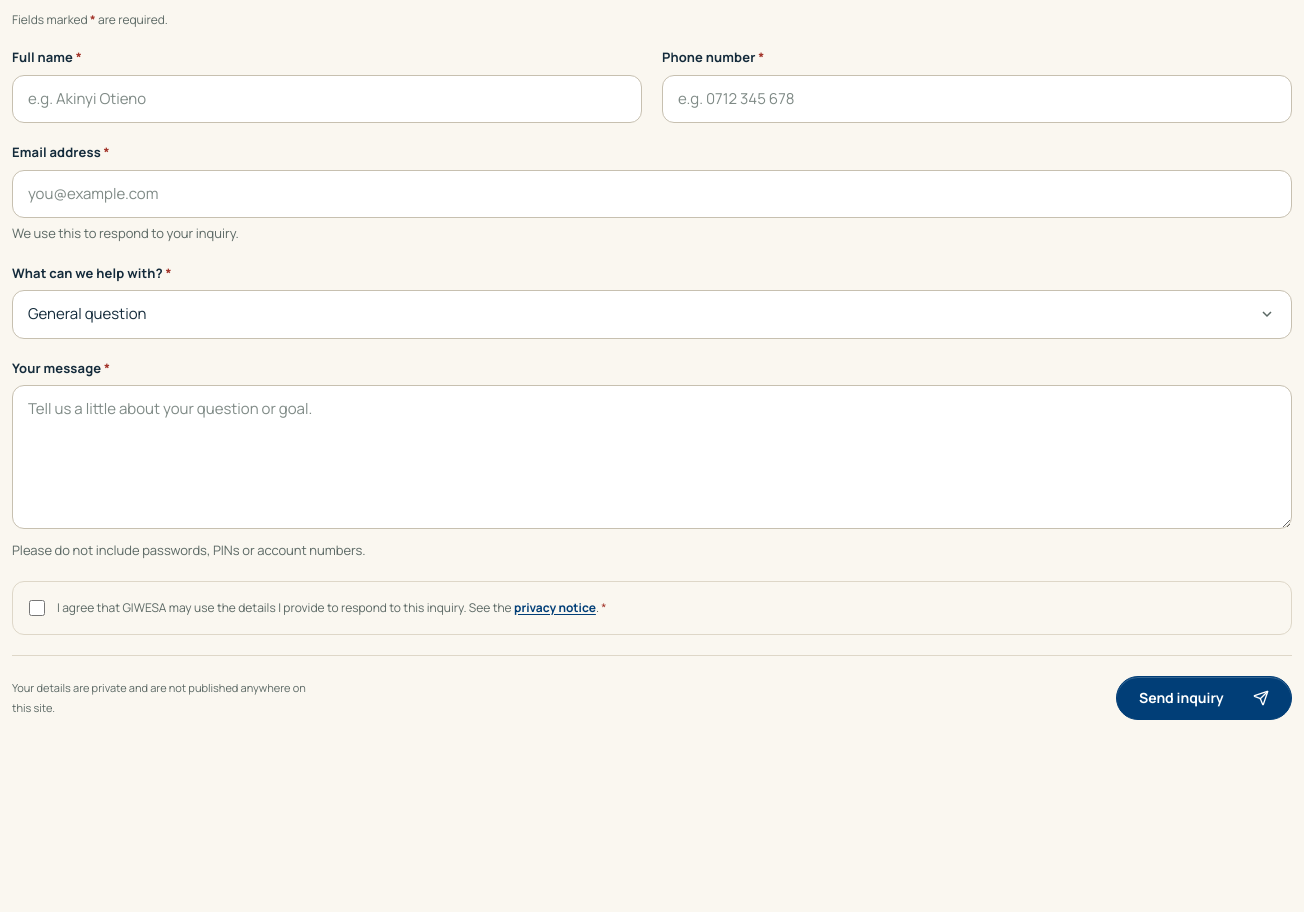
Test: public inquiry form › submits a valid inquiry and shows a polite success state
Step 1. Type "Akinyi Otieno" into the field labelled "Full name *" → (327, 99), box [12, 74, 642, 123]
Step 2. Type "0712345678" into the field labelled "Phone number *" → (977, 99), box [662, 74, 1292, 123]
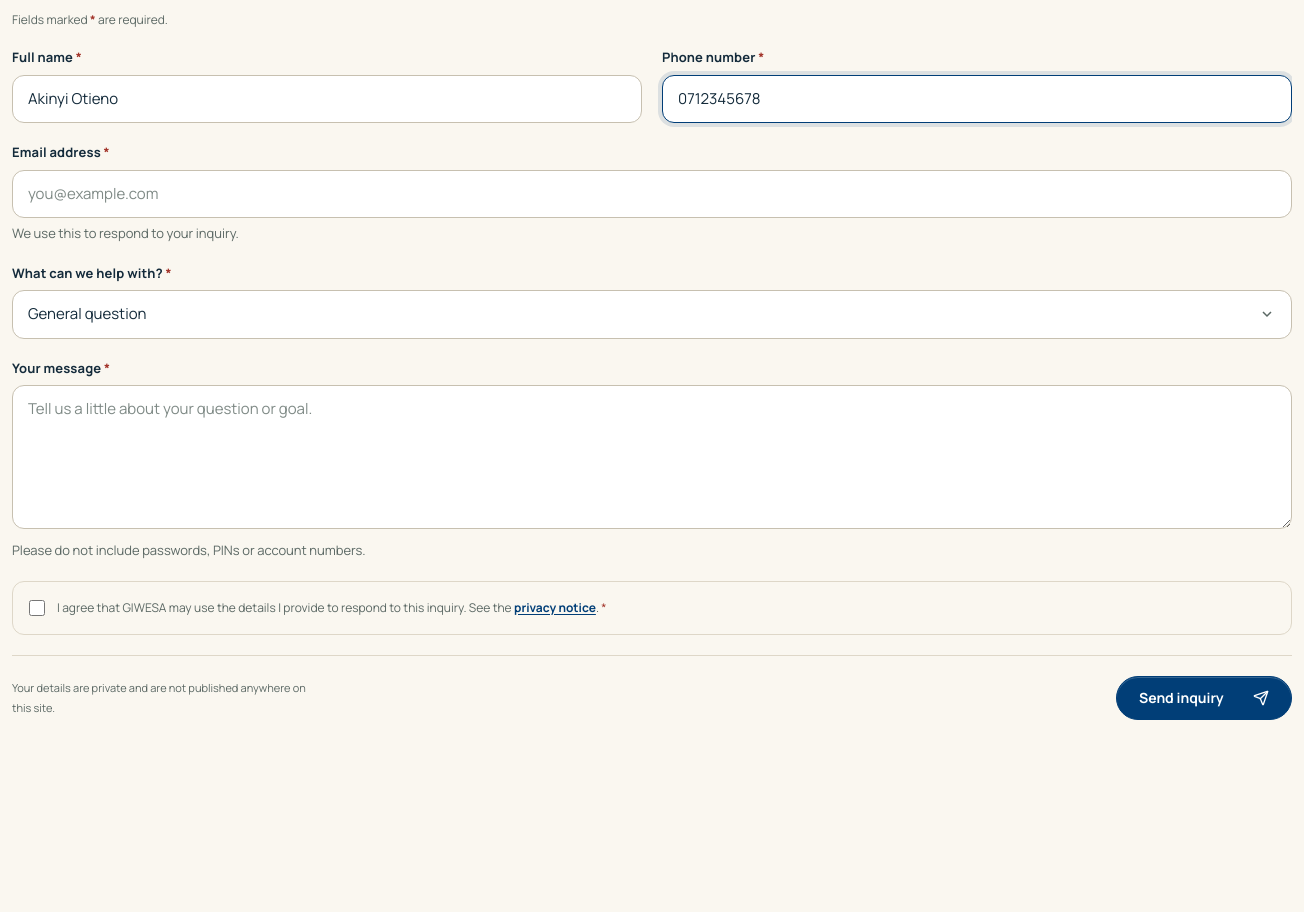
Step 3. Type "akinyi@example.com" into the field labelled "Email address *" → (652, 194), box [12, 170, 1292, 218]
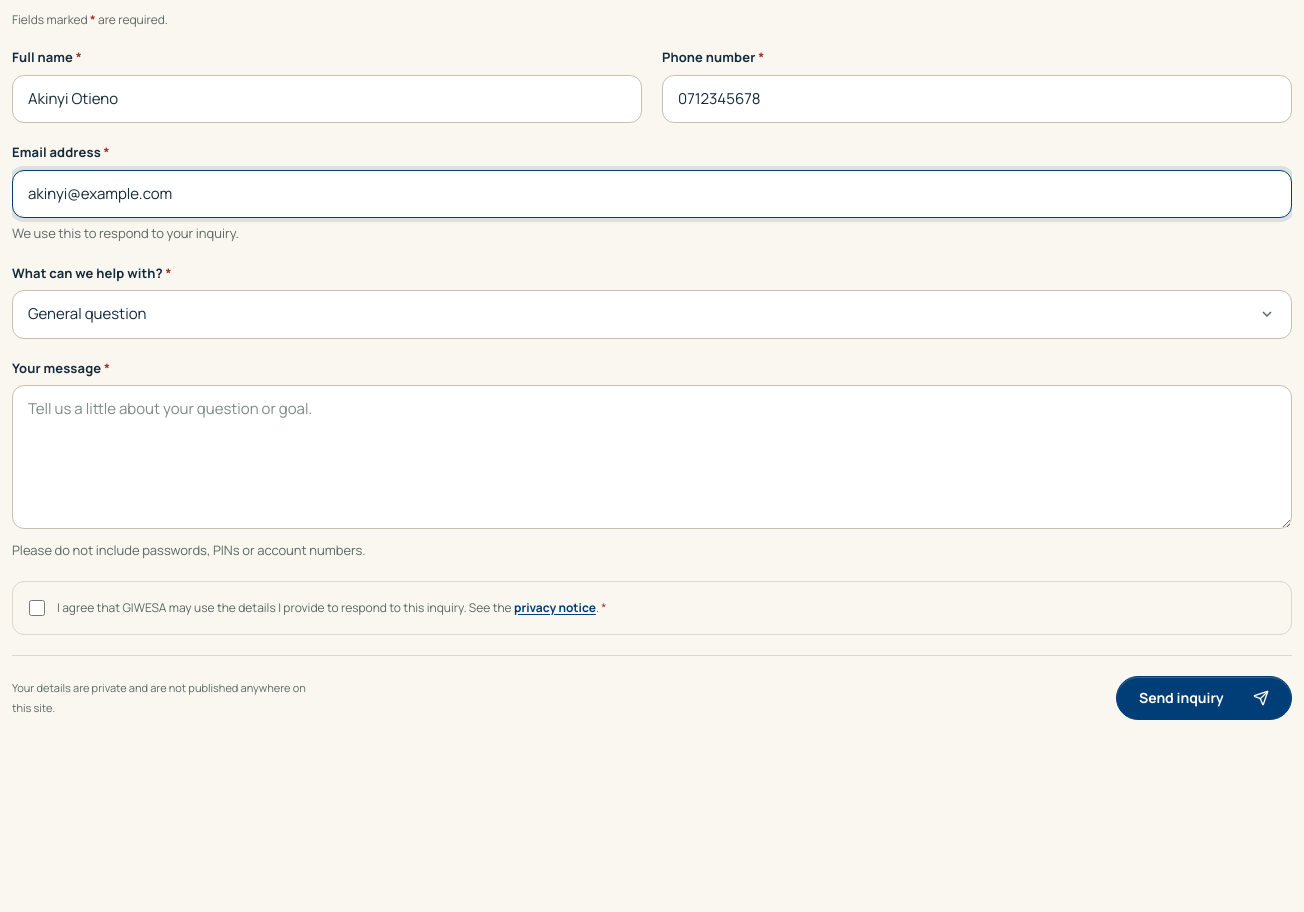
Step 4. Select "Savings and micro-loans" in the dropdown labelled "What can we help with? *" → (652, 314), box [12, 290, 1292, 338]
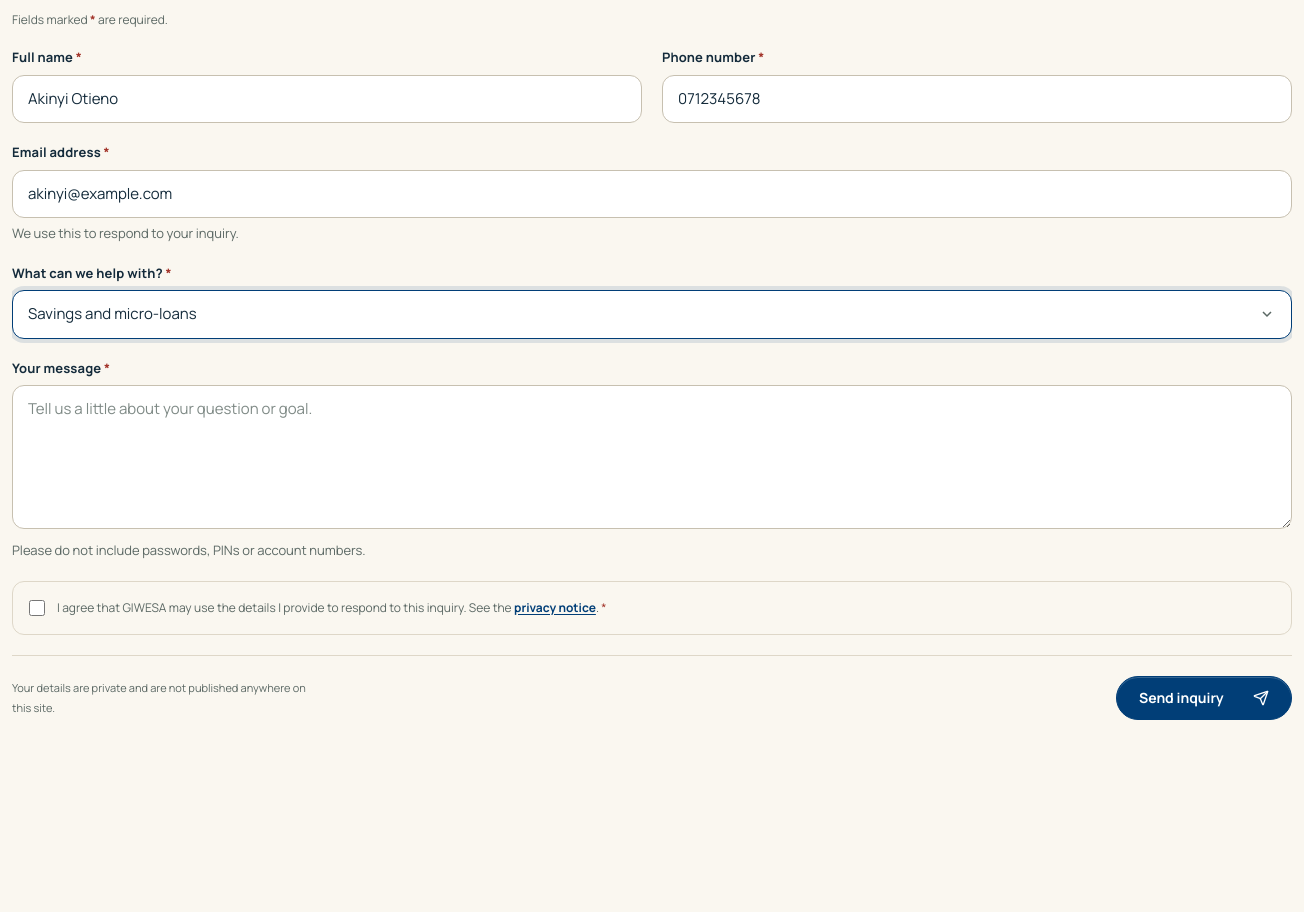
Step 5. Type "I would like to understand the savings process." into the text box labelled "Your message *" → (652, 457), box [12, 385, 1292, 529]
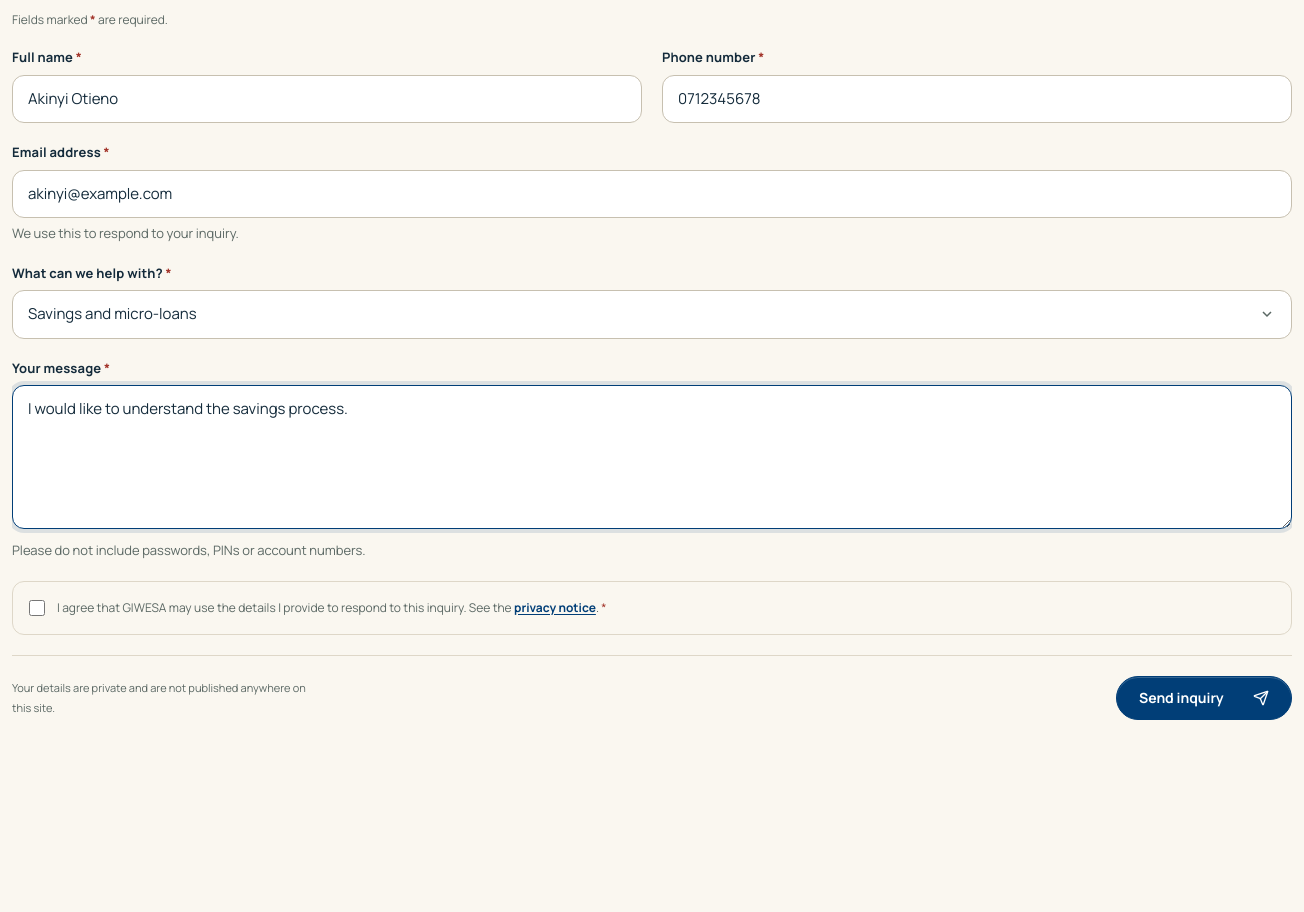
Step 6. Click the checkbox labelled "I agree that GIWESA may use" → (37, 608), box [29, 600, 45, 616]
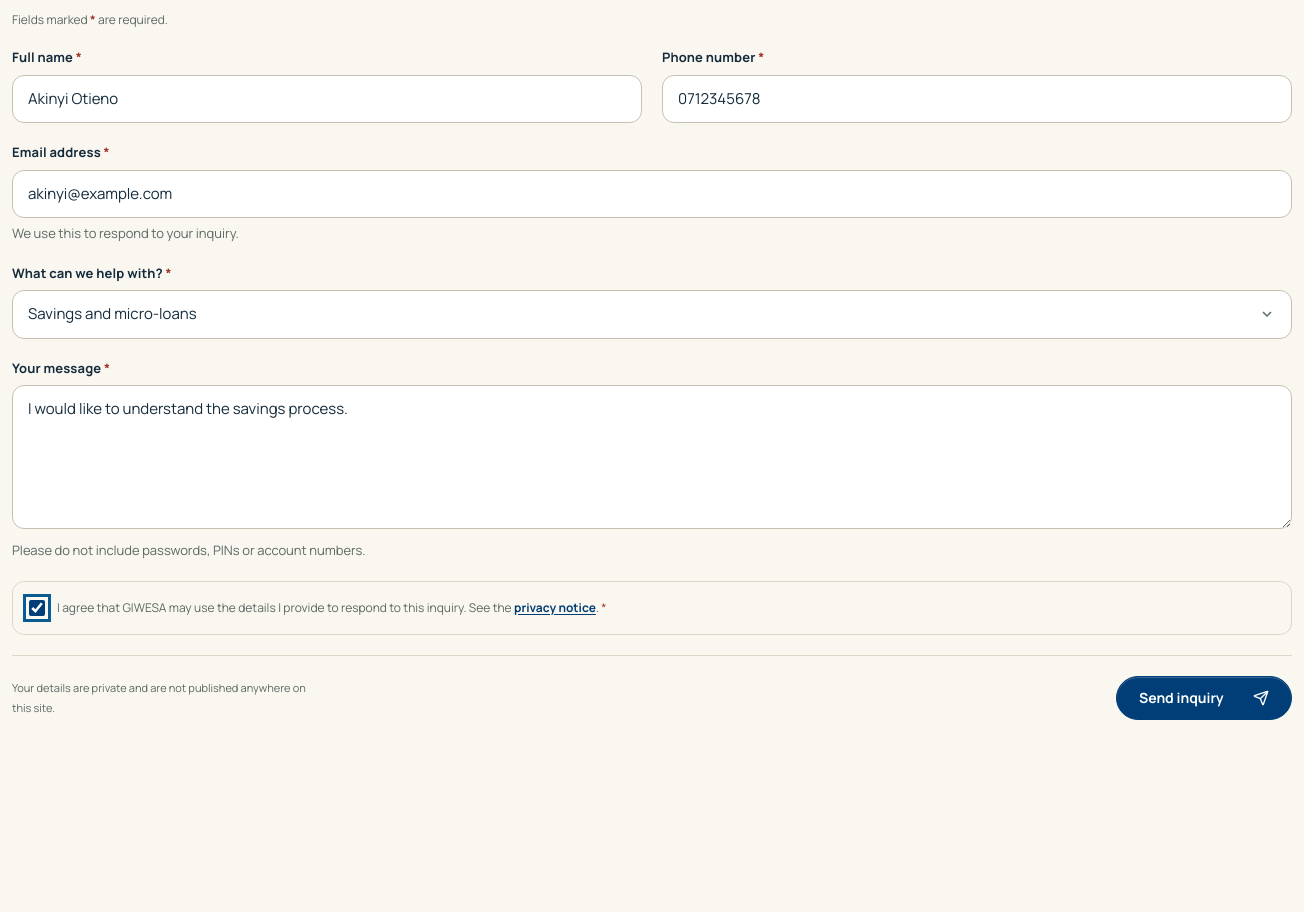
Step 7. Click the button "Send inquiry" → (1204, 698), box [1116, 676, 1292, 720]
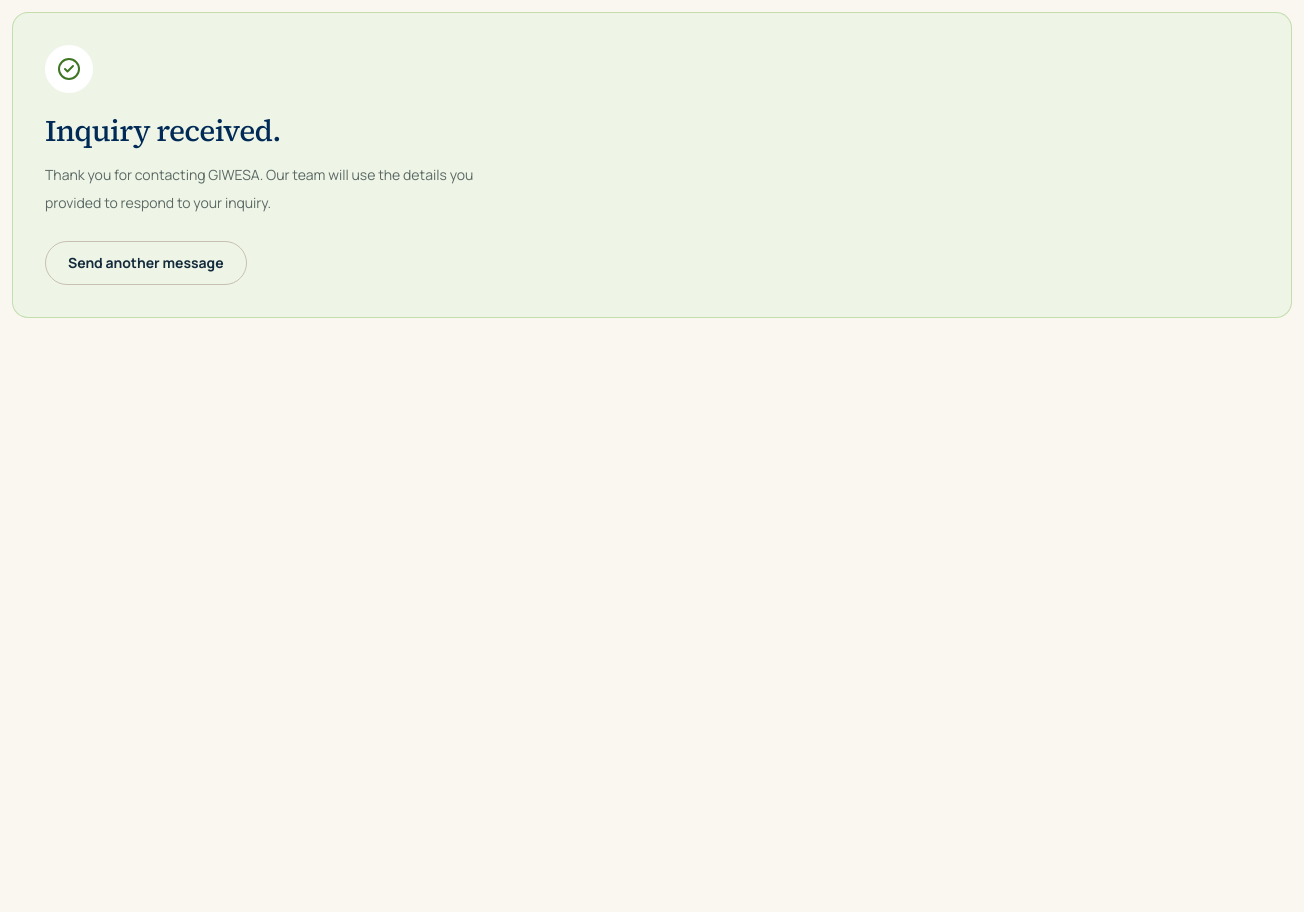
Expected: the heading "Inquiry received." is shown, [45, 110, 281, 151]
